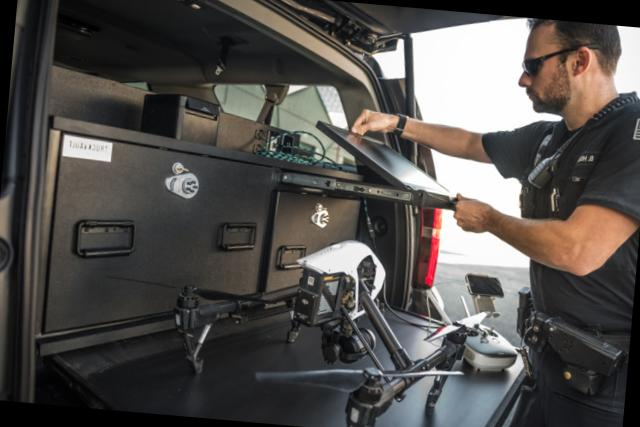drone: (85, 219, 512, 427)
